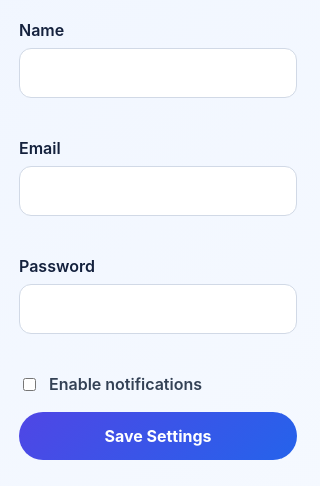
Test: SettingsForm › rejects password without a number
This screenshot has width=320, height=486.
Type "abcdefgh" into the password field labelled "Password".
click(158, 309); type("abcdefgh")  # box [19, 284, 297, 334]
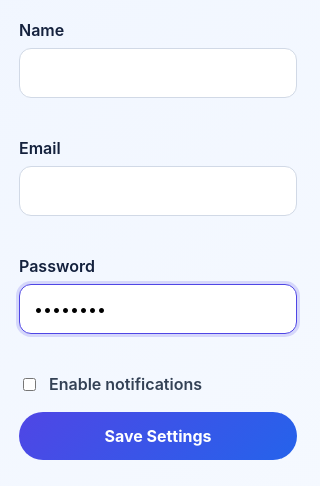
Click the button "Save Settings".
click(158, 436)  # box [19, 412, 297, 460]
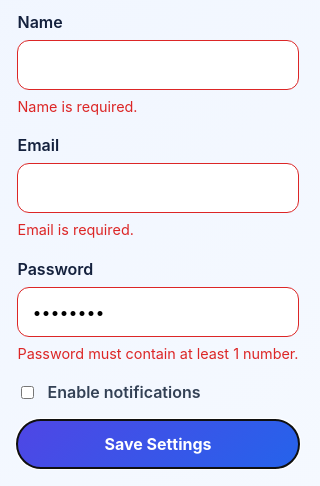
Result: the text "Password must contain at least 1 number." is shown at [18, 343, 298, 364]
